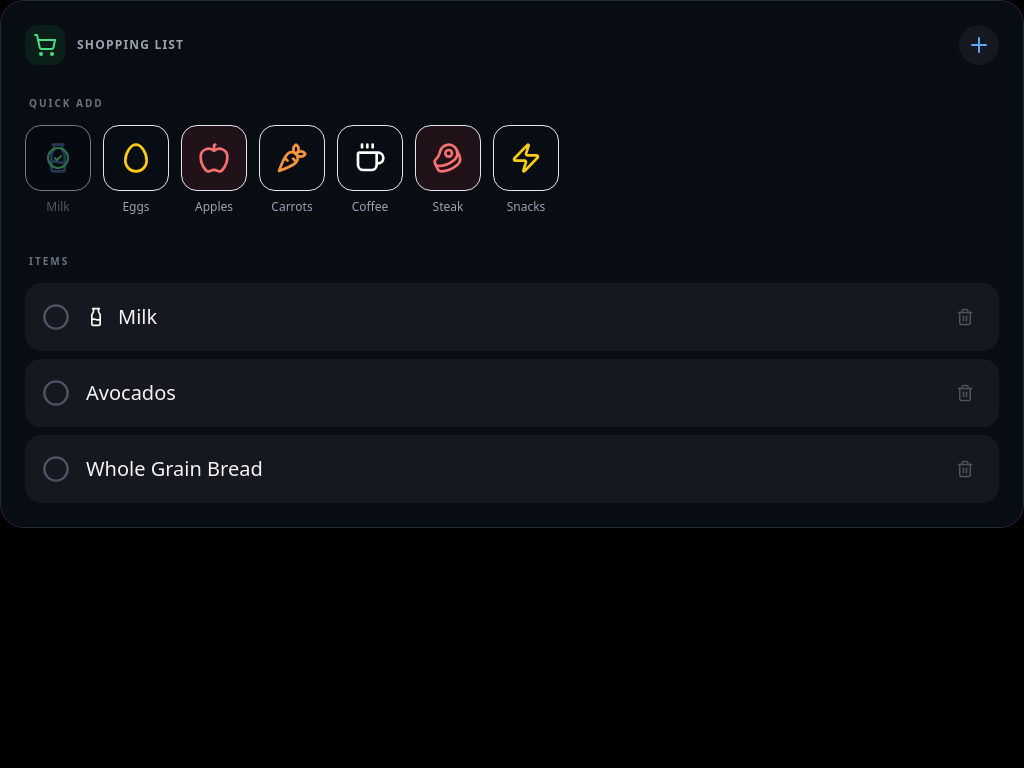
ShoppingListWidget › adds a new item when submitted via Enter key
# Open add form
Click the button named "Add item".
click(979, 45)  # box [959, 25, 999, 65]
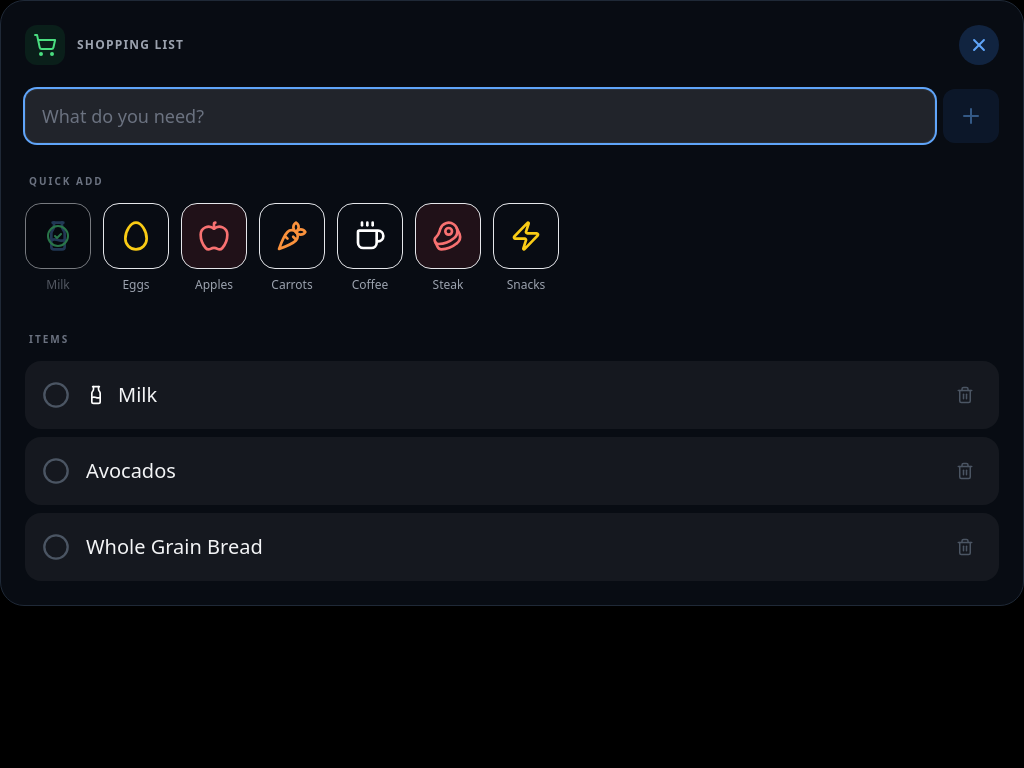
# Type \"Almond Milk\" and hit Enter
Type "Almond Milk" into the field named "New item name".
click(480, 116); type("Almond Milk")  # box [25, 89, 935, 143]
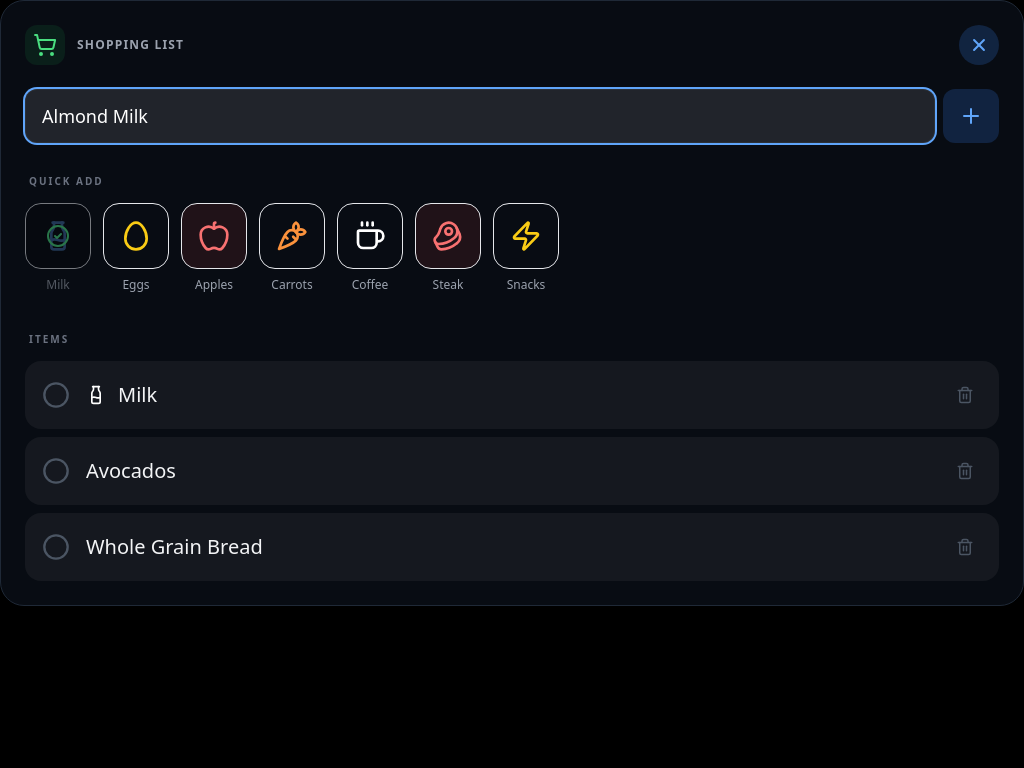
Submit the form named "New item name", box [25, 89, 999, 143]
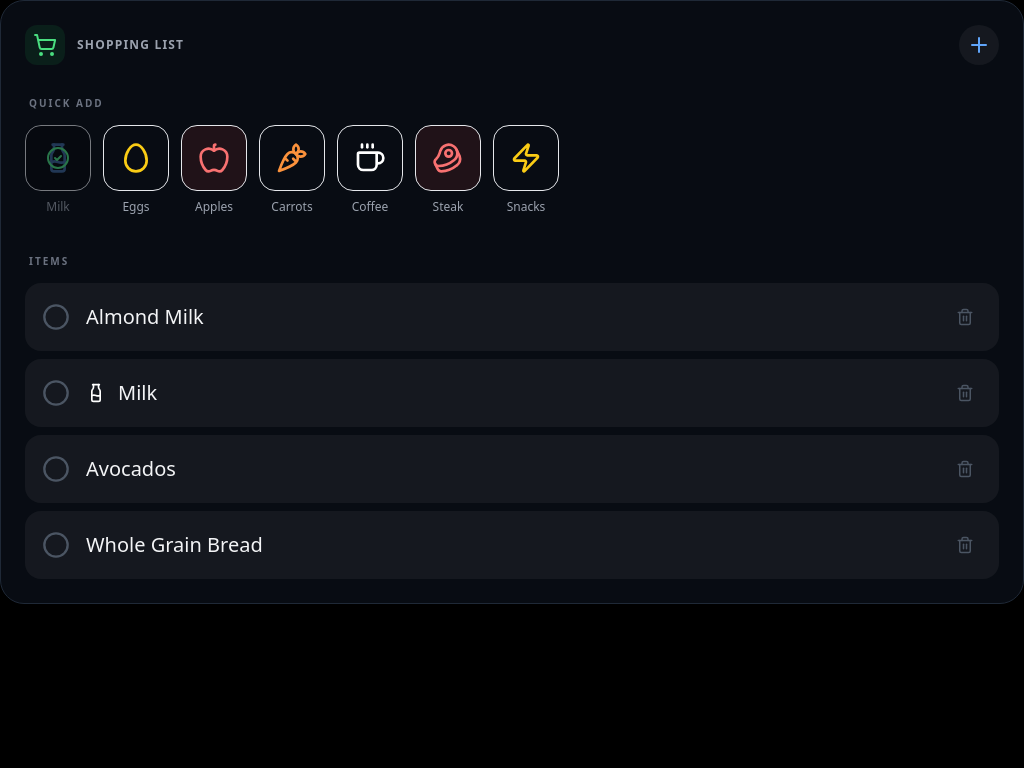
Now the button "Almond Milk" is shown, box [42, 303, 204, 331]
